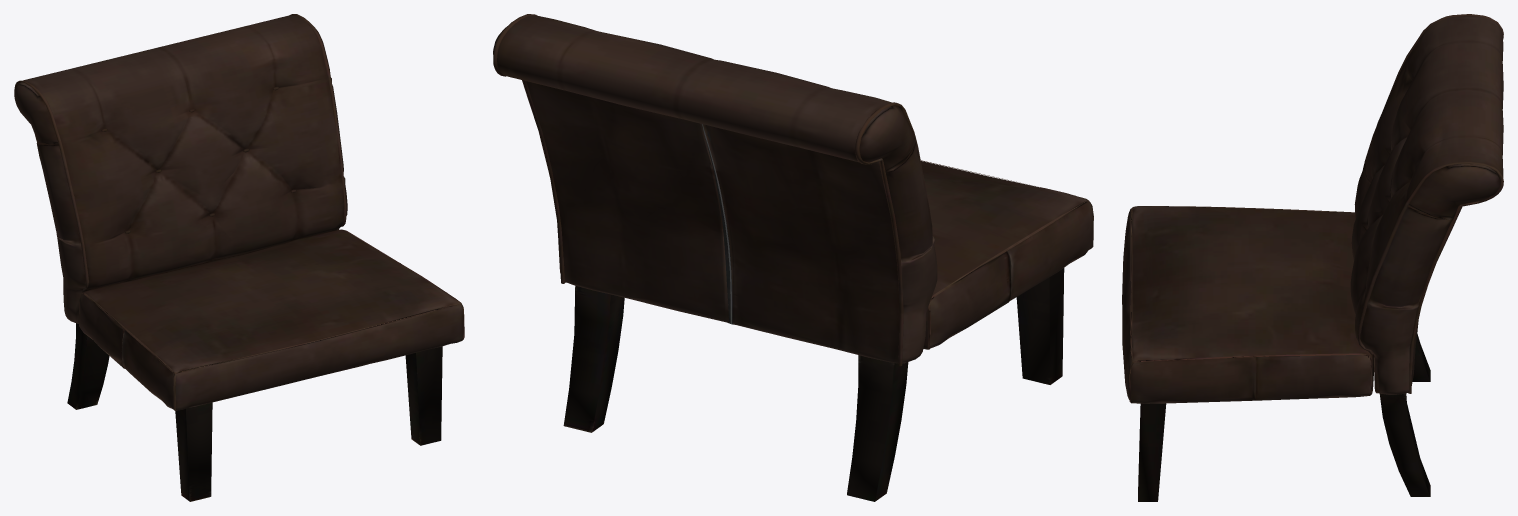
Rendered from ph-dining-chair-02.glb.
The picture shows the model from 3 angles, left to right: view 1: azimuth 30°, elevation 25°; view 2: azimuth 150°, elevation 25°; view 3: azimuth 270°, elevation 25°; orthographic projection. The views are drawn at different scales.
Parts seen in each view (by area): view 1: dining_chair_02; view 2: dining_chair_02; view 3: dining_chair_02.
Part boxes in pixels (bbox=[...]): dining_chair_02: bbox=[14, 14, 464, 501]; dining_chair_02: bbox=[493, 14, 1093, 501]; dining_chair_02: bbox=[1122, 14, 1503, 501].
Bounding box in the file's own units: 1 × 0.9994 × 1.
Materials: 1 (1 with a texture image).
